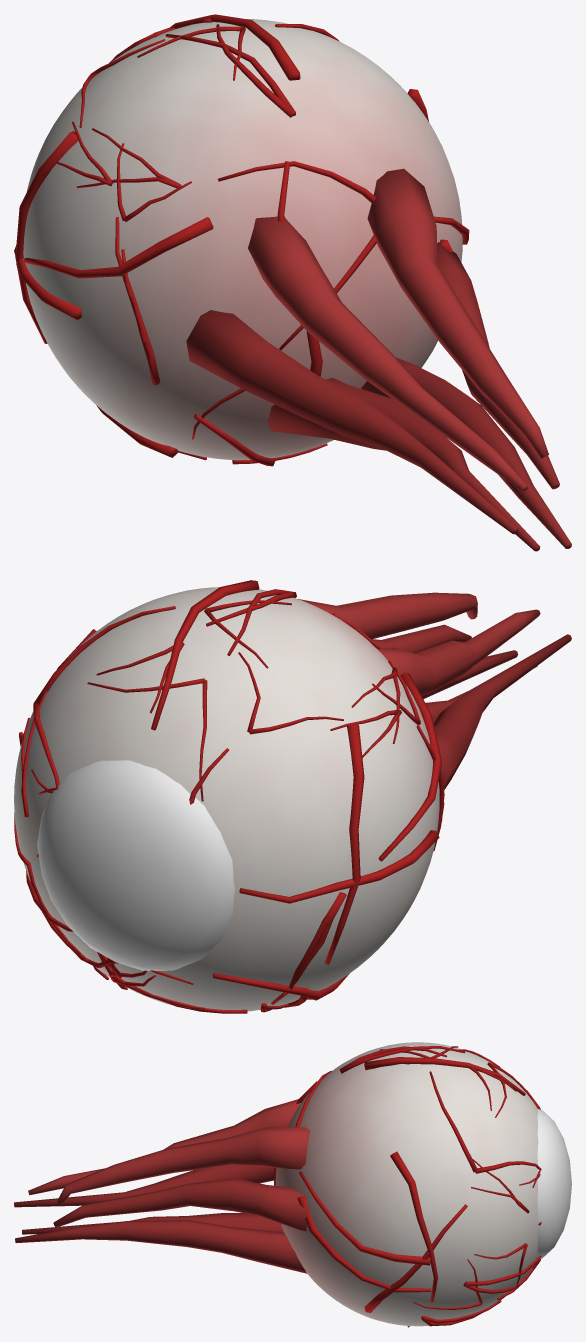
File: eye_of_cthulhu.glb
3 views of the same model, one above another, from view 1: azimuth 30°, elevation 25°; view 2: azimuth 150°, elevation 25°; view 3: azimuth 270°, elevation 25° (orthographic). The views are drawn at different scales.
Visible parts, largest first — view 1: eye_of_cthulhu; view 2: eye_of_cthulhu; view 3: eye_of_cthulhu.
Part boxes in pixels (bbox=[...]): eye_of_cthulhu: bbox=[14, 14, 571, 551]; eye_of_cthulhu: bbox=[14, 580, 571, 1013]; eye_of_cthulhu: bbox=[14, 1042, 571, 1327].
Size of the model in its own units: 2.6 by 2.59 by 4.92.
